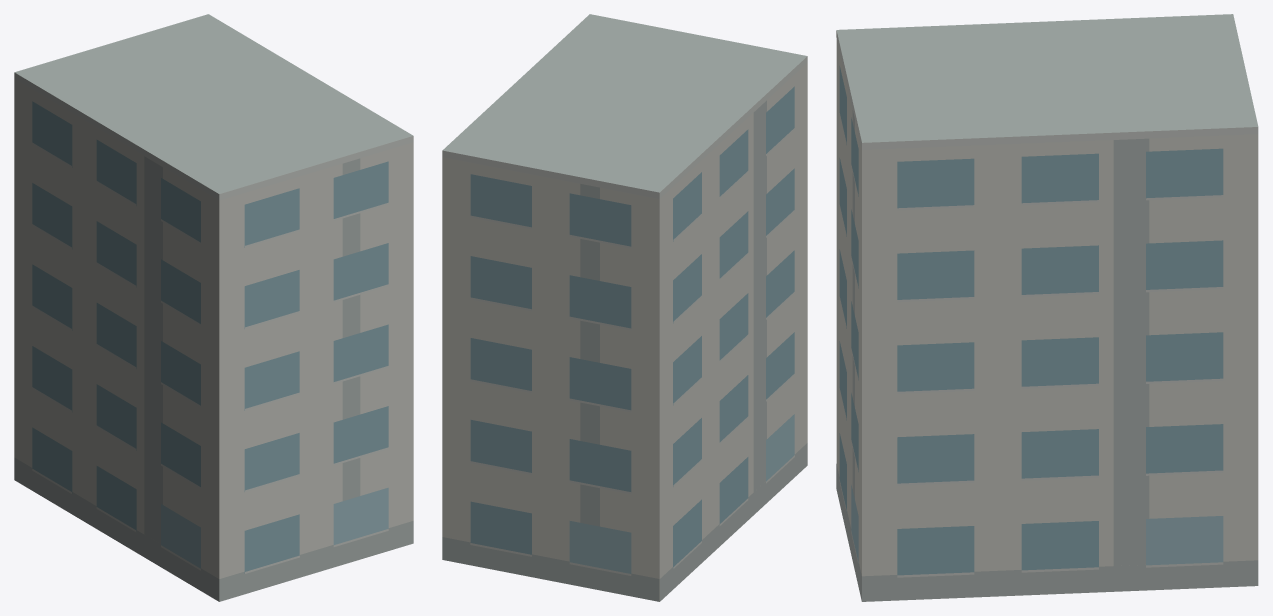
The model's file is residential-6f35594f-e907-4563-b0ca-ef09a4973138.glb.
3 views of the same model, side by side, from view 1: azimuth 30°, elevation 25°; view 2: azimuth 150°, elevation 25°; view 3: azimuth 270°, elevation 25° (orthographic). The views are drawn at different scales.
Visible parts, largest first — view 1: residential-6f35594f-e907-4563-b0ca-ef09a4973138.tmp; view 2: residential-6f35594f-e907-4563-b0ca-ef09a4973138.tmp; view 3: residential-6f35594f-e907-4563-b0ca-ef09a4973138.tmp.
Part boxes in pixels (x1=…): residential-6f35594f-e907-4563-b0ca-ef09a4973138.tmp: x1=14, y1=14, x2=413, y2=601; residential-6f35594f-e907-4563-b0ca-ef09a4973138.tmp: x1=442, y1=14, x2=807, y2=601; residential-6f35594f-e907-4563-b0ca-ef09a4973138.tmp: x1=836, y1=14, x2=1258, y2=601.
Size of the model in its own units: 9.19 by 15.25 by 12.71.
